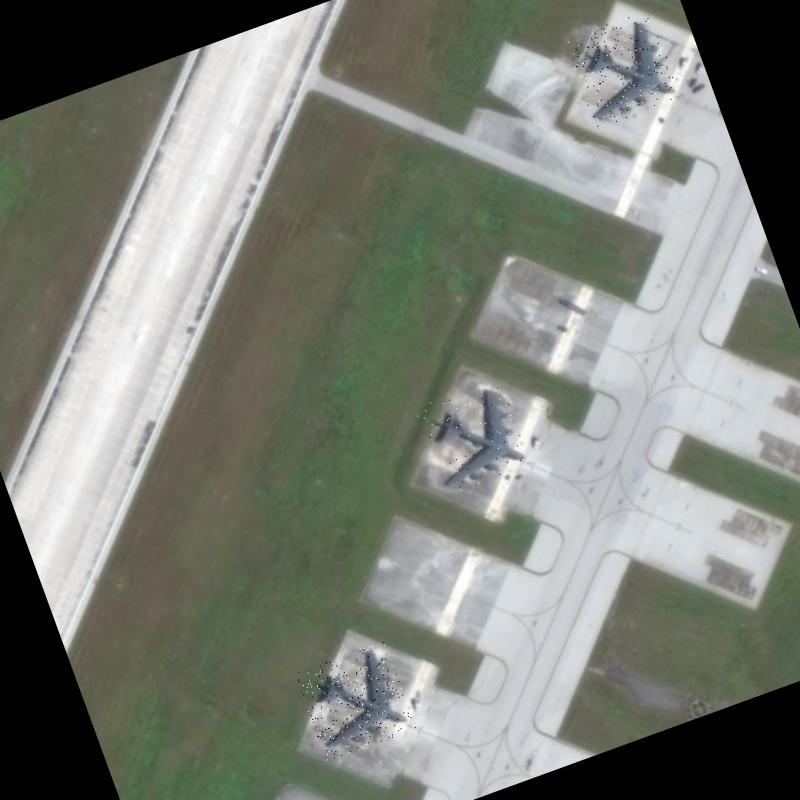A8: (293, 639, 416, 761), (413, 375, 533, 495), (564, 9, 682, 128)
